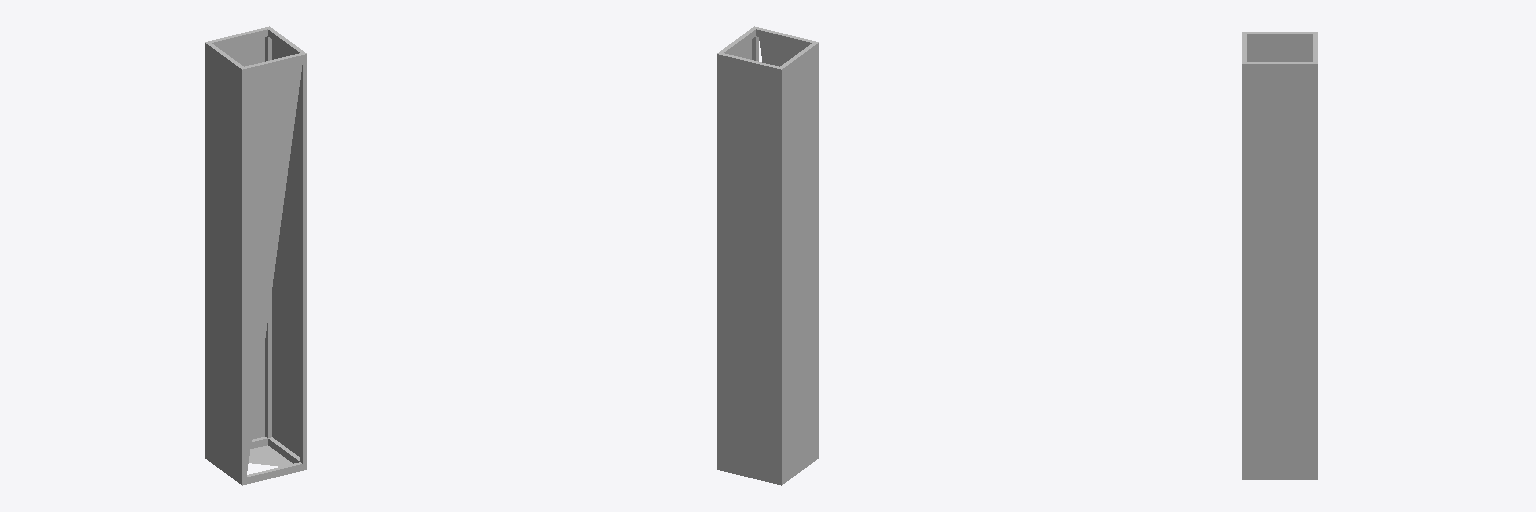
The model's file is wireframebuilding.obj.
The picture shows the model from 3 angles: view 1: azimuth 30°, elevation 25°; view 2: azimuth 150°, elevation 25°; view 3: azimuth 270°, elevation 25°; orthographic projection.
Parts seen in each view (by area): view 1: Cube; view 2: Cube; view 3: Cube.
Part boxes in pixels (x1,y1,x2,y2): Cube: (205, 26, 306, 485); Cube: (717, 26, 818, 485); Cube: (1242, 32, 1317, 479).
Size of the model in its own units: 1.96 by 12 by 1.96.